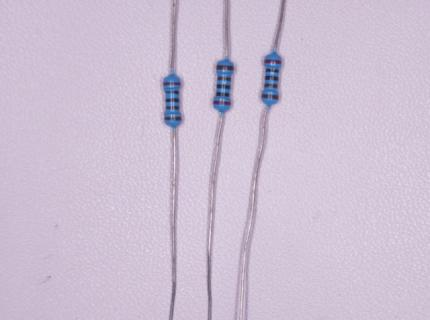Black band: (265, 76, 278, 82), (216, 92, 230, 97), (165, 91, 179, 95), (265, 69, 279, 73), (217, 85, 230, 89), (166, 99, 179, 102)
Brown band: (216, 65, 234, 70), (262, 95, 279, 100), (164, 117, 181, 121), (166, 106, 180, 110), (217, 77, 231, 81), (265, 84, 278, 88)
Red band: (212, 101, 231, 105), (264, 60, 281, 64), (163, 83, 181, 86)
